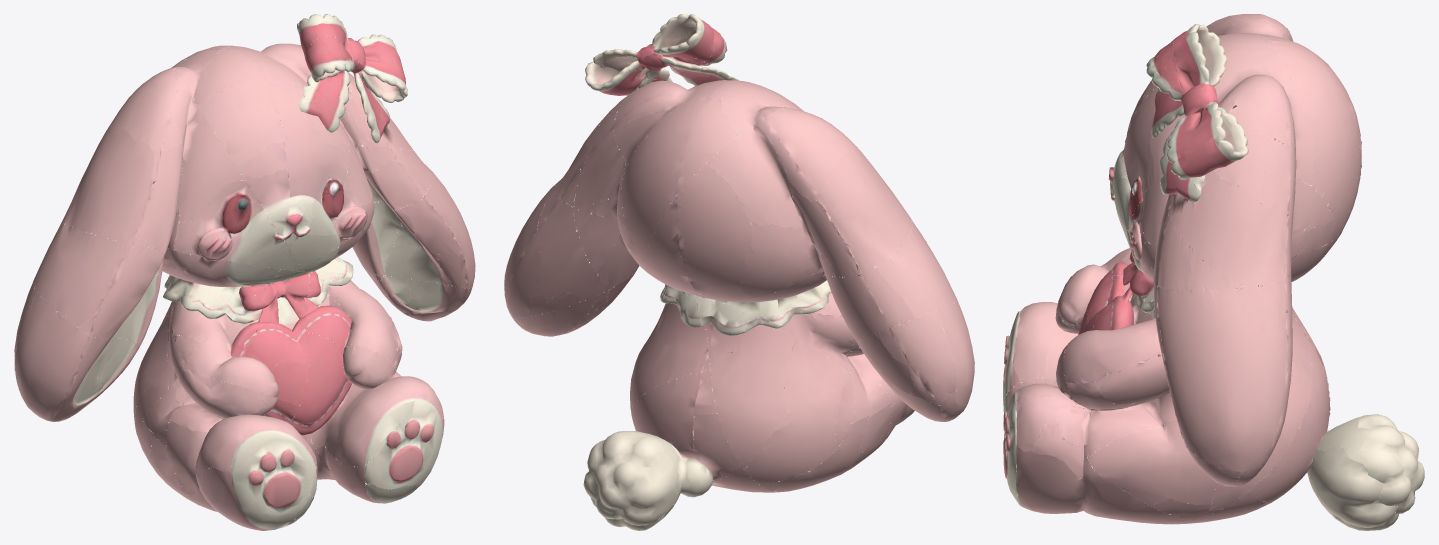
File: bunny.glb
3 views of the same model, side by side, from view 1: azimuth 30°, elevation 25°; view 2: azimuth 150°, elevation 25°; view 3: azimuth 270°, elevation 25° (orthographic). The views are drawn at different scales.
Visible parts, largest first — view 1: tripo_node_52029e6d-3747-4c72-93be-e273922a56a3; view 2: tripo_node_52029e6d-3747-4c72-93be-e273922a56a3; view 3: tripo_node_52029e6d-3747-4c72-93be-e273922a56a3.
Boxes of the visible parts, x1,y1,x2,y2 form: tripo_node_52029e6d-3747-4c72-93be-e273922a56a3: [14, 14, 475, 530]; tripo_node_52029e6d-3747-4c72-93be-e273922a56a3: [504, 14, 974, 530]; tripo_node_52029e6d-3747-4c72-93be-e273922a56a3: [1003, 14, 1424, 530].
Size of the model in its own units: 0.9792 by 0.9391 by 0.7036.
1 material, 1 textured.
